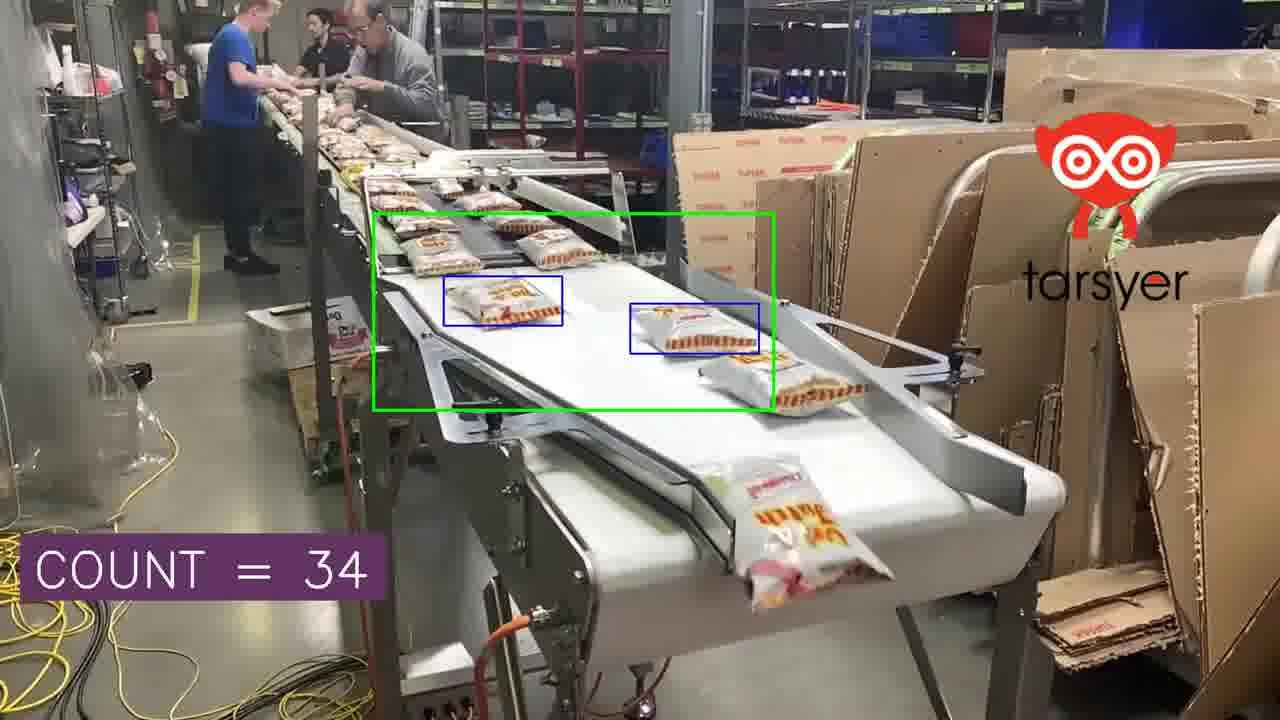Snack: (694, 455, 893, 611), (773, 349, 864, 416), (635, 305, 760, 352), (448, 278, 561, 324), (517, 228, 603, 269), (401, 239, 482, 275), (384, 215, 458, 239), (483, 214, 560, 236), (402, 232, 459, 256), (457, 191, 521, 211), (365, 177, 417, 198), (370, 193, 430, 211), (355, 126, 400, 150), (374, 142, 420, 163), (326, 143, 374, 162), (432, 179, 466, 200), (335, 115, 360, 132)
